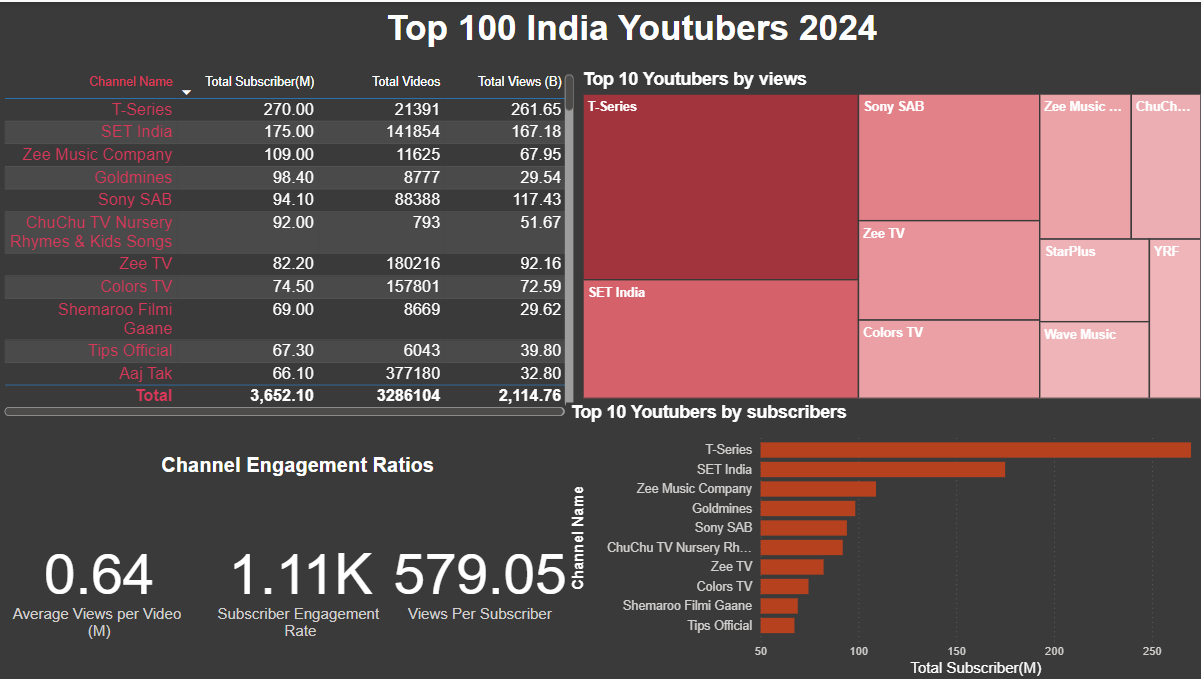

Layout of this report page (visuals, bound fields, positions):
{"tool":"powerbi","page":{"name":"Page 1","canvas":[1280,720],"ordinal":0},"visuals":[{"type":"textbox","box":[406.3,0,570.7,58.6],"z":0},{"type":"tableEx","fields":{"Values":["view_india_youtubers_2024.channel_name","view_india_youtubers_2024.Total Subscriber(M)","view_india_youtubers_2024.Total Videos","view_india_youtubers_2024.Total Views (B)"]},"box":[0,71.8,614.2,372.3],"z":1000},{"type":"treemap","title":"Top 10 Youtubers by views","fields":{"Group":["view_india_youtubers_2024.channel_name"],"Values":["view_india_youtubers_2024.Total Views (B)"]},"box":[614.2,71.8,665.2,353.4],"z":2000},{"type":"card","fields":{"Values":["view_india_youtubers_2024.Average Views per Video (M)"]},"box":[0,500.8,211.7,219.2],"z":3000},{"type":"card","fields":{"Values":["view_india_youtubers_2024.Subscriber Engagement Rate"]},"box":[211.7,500.8,215.4,219.2],"z":4000},{"type":"card","fields":{"Values":["view_india_youtubers_2024.Views Per Subscriber"]},"box":[406.3,500.8,207.9,219.2],"z":5000},{"type":"clusteredBarChart","title":"Top 10 Youtubers by subscribers","fields":{"Category":["view_india_youtubers_2024.channel_name"],"Y":["view_india_youtubers_2024.Total Subscriber(M)"]},"box":[600.9,425.2,678.4,294.8],"z":6000},{"type":"textbox","box":[166.3,474.3,306.1,52.9],"z":7000}]}

Visuals, with their boxes in screenshot pixels (x1, y1, x2, y2), scaled from the page's 1280x720 canvas onto the 1201x679 screenshot:
textbox: 381,0,917,55
tableEx - view_india_youtubers_2024.channel_name x view_india_youtubers_2024.Total Subscriber(M): 0,68,576,419
"Top 10 Youtubers by views" treemap: 576,68,1200,401
card - view_india_youtubers_2024.Average Views per Video (M): 0,472,199,678
card - view_india_youtubers_2024.Subscriber Engagement Rate: 199,472,401,678
card - view_india_youtubers_2024.Views Per Subscriber: 381,472,576,678
"Top 10 Youtubers by subscribers" clusteredBarChart: 564,401,1200,678
textbox: 156,447,443,497
